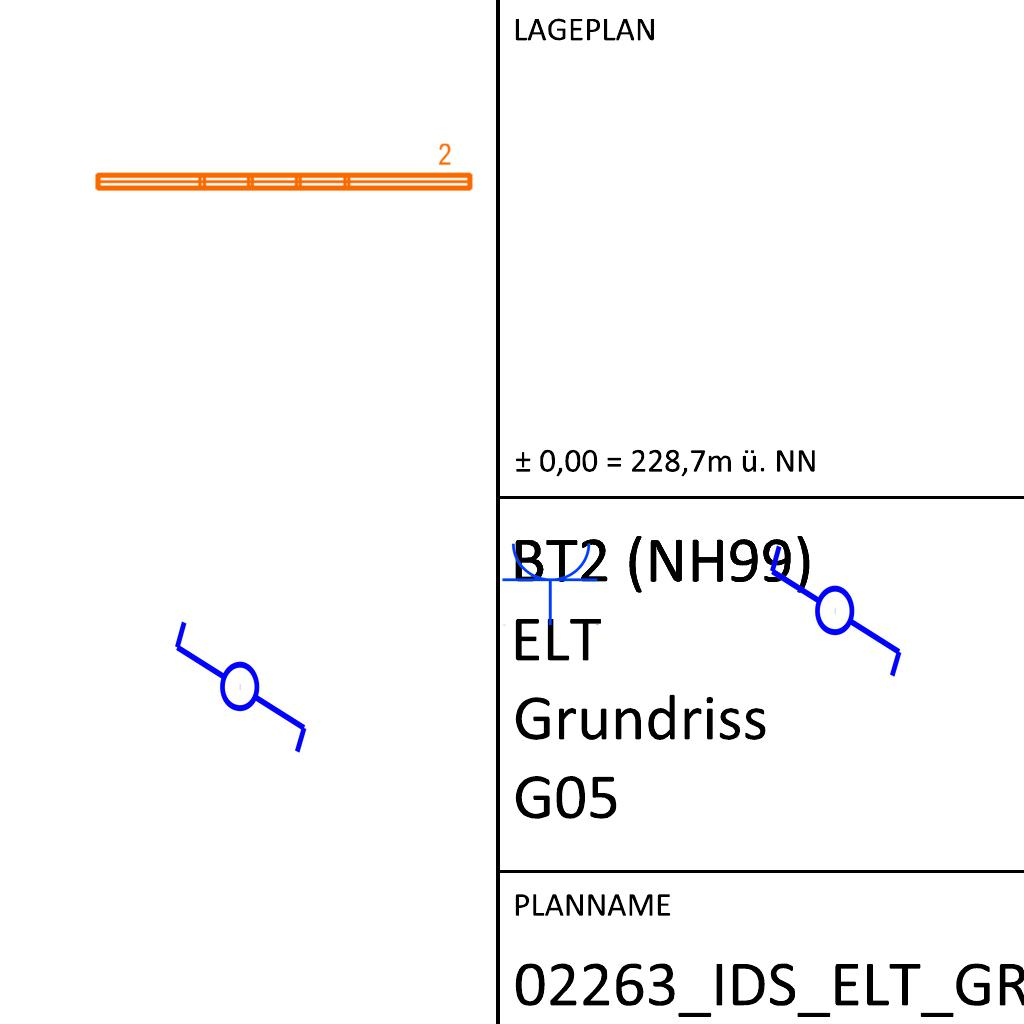Ambulanz_Pendelleuchte_LED: (90, 141, 477, 197)
Schukosteckdose_einfach: (501, 539, 601, 626)
Wechselschalter: (170, 600, 314, 757), (765, 524, 909, 681)
